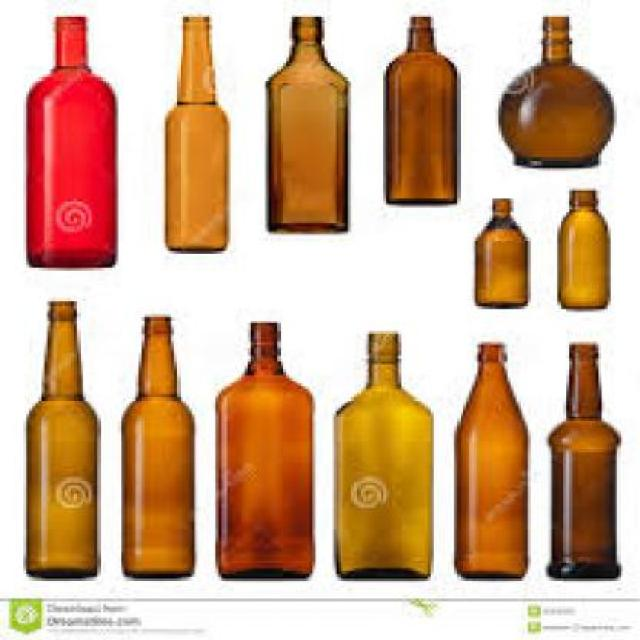kaca: (212, 320, 312, 577), (334, 331, 431, 577), (23, 13, 115, 264), (119, 314, 192, 574), (28, 298, 95, 574), (260, 14, 345, 229), (495, 17, 614, 166), (546, 341, 620, 577), (454, 341, 524, 577), (164, 14, 224, 251), (382, 10, 456, 202), (554, 188, 608, 306), (472, 196, 528, 306)
